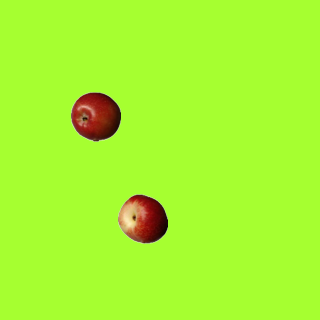Apple Braeburn: (70, 91, 120, 141)
Nectarine: (117, 193, 167, 243)
